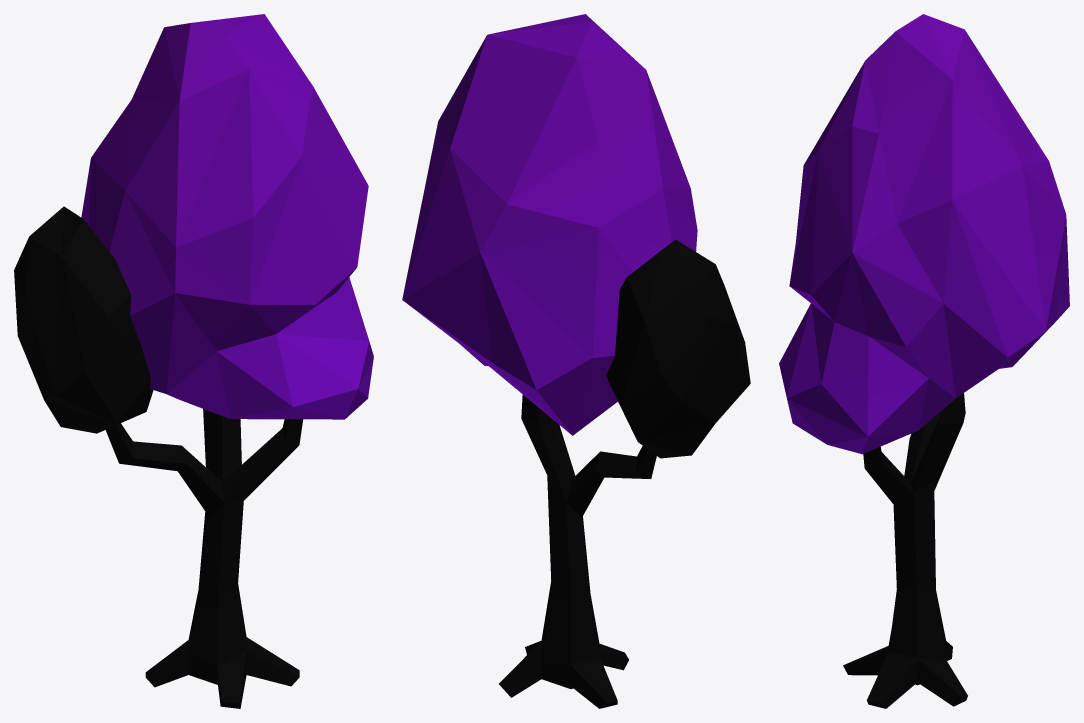
Rendered from oak_tree.glb.
The picture shows the model from 3 angles, left to right: view 1: azimuth 30°, elevation 25°; view 2: azimuth 150°, elevation 25°; view 3: azimuth 270°, elevation 25°; orthographic projection. The views are drawn at different scales.
Visible parts, largest first — view 1: SM_Env_Tree_Round_01; view 2: SM_Env_Tree_Round_01; view 3: SM_Env_Tree_Round_01.
Part boxes in pixels (left/top/right/bottom): SM_Env_Tree_Round_01: left=14, top=14, right=373, bottom=708; SM_Env_Tree_Round_01: left=402, top=14, right=750, bottom=708; SM_Env_Tree_Round_01: left=779, top=14, right=1069, bottom=708.
Bounding box in the file's own units: 2.89 × 5.98 × 2.39.
